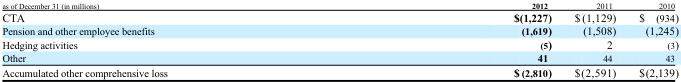table: (1, 0, 677, 78)
table column: (1, 0, 339, 78), (339, 0, 562, 78), (562, 0, 626, 78), (626, 0, 677, 78)
table column header: (1, 0, 677, 10)
table row: (1, 23, 677, 37), (1, 50, 677, 64), (1, 64, 677, 78), (1, 10, 677, 23), (1, 37, 677, 50), (1, 0, 677, 10)
